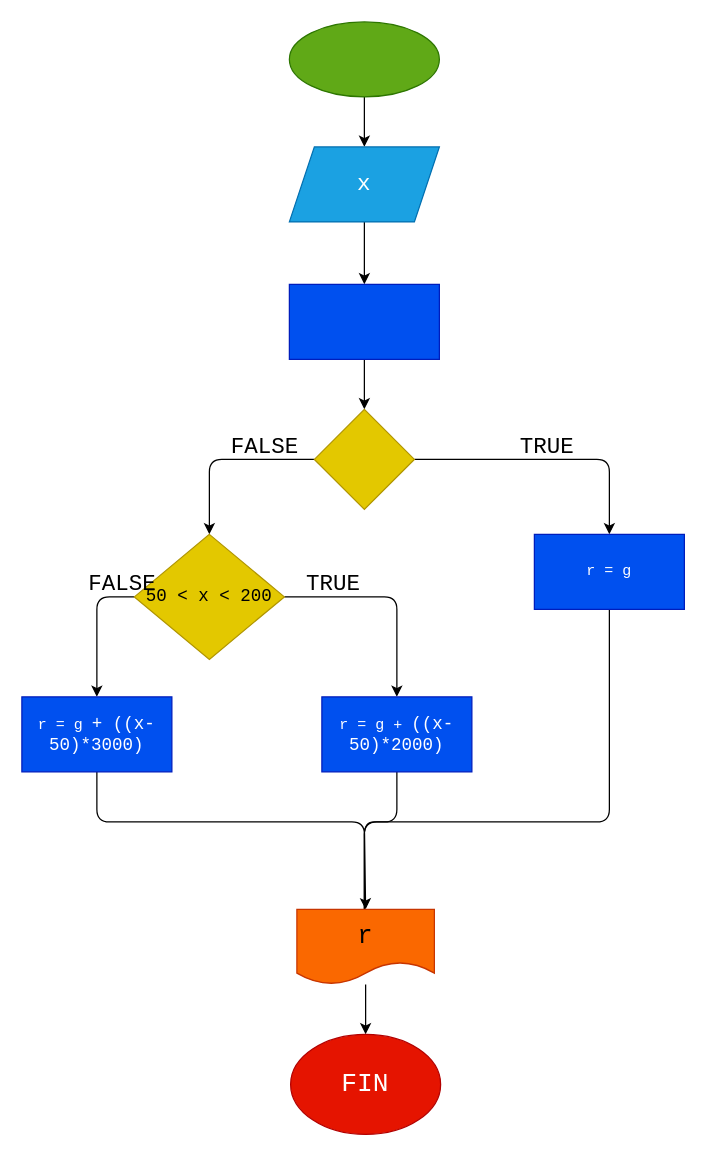
This 706x1156 diagram has some shape labels left out. The centre of each missing label's shape, as x and y in pixels:
g = 10000: (x=363, y=321)
NICIO: (x=363, y=59)
x < 50: (x=363, y=458)
